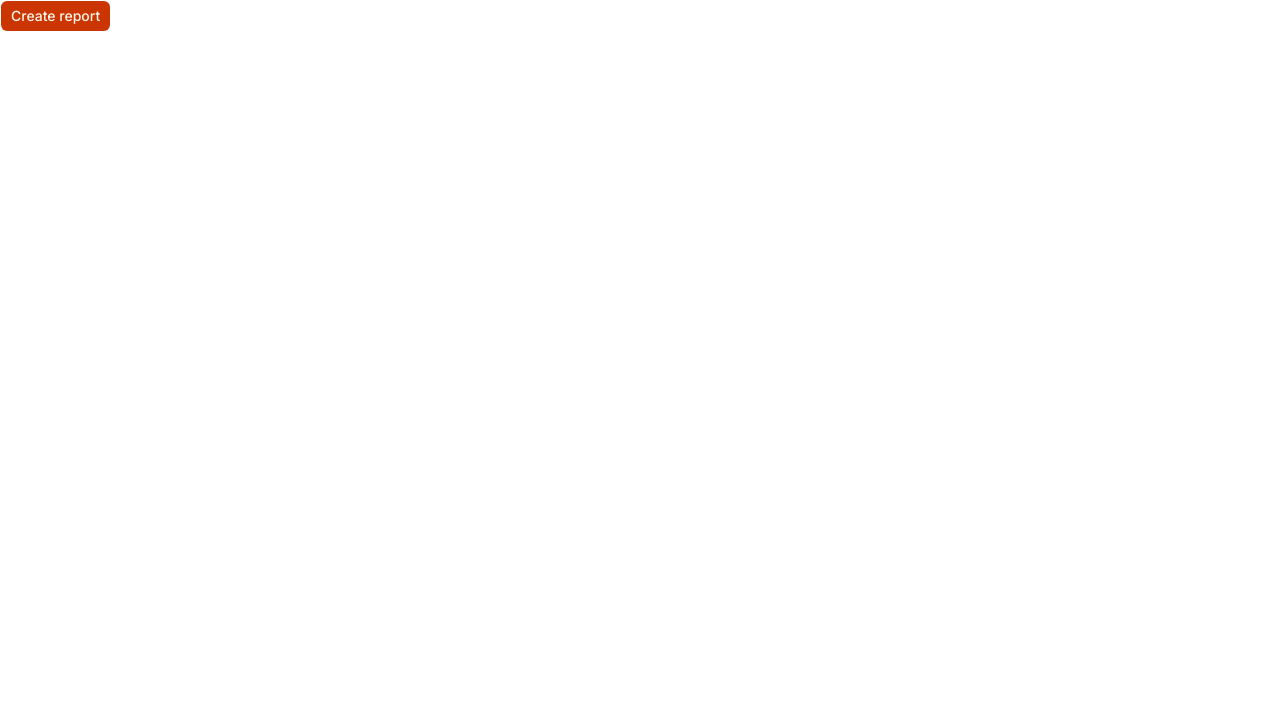
Test: daily report create form › reuses the idempotency key for retries with an unchanged date
Later steps or results of the test are not shown.
Click the button "Create report" at (56, 16), box [0,0,111,32]
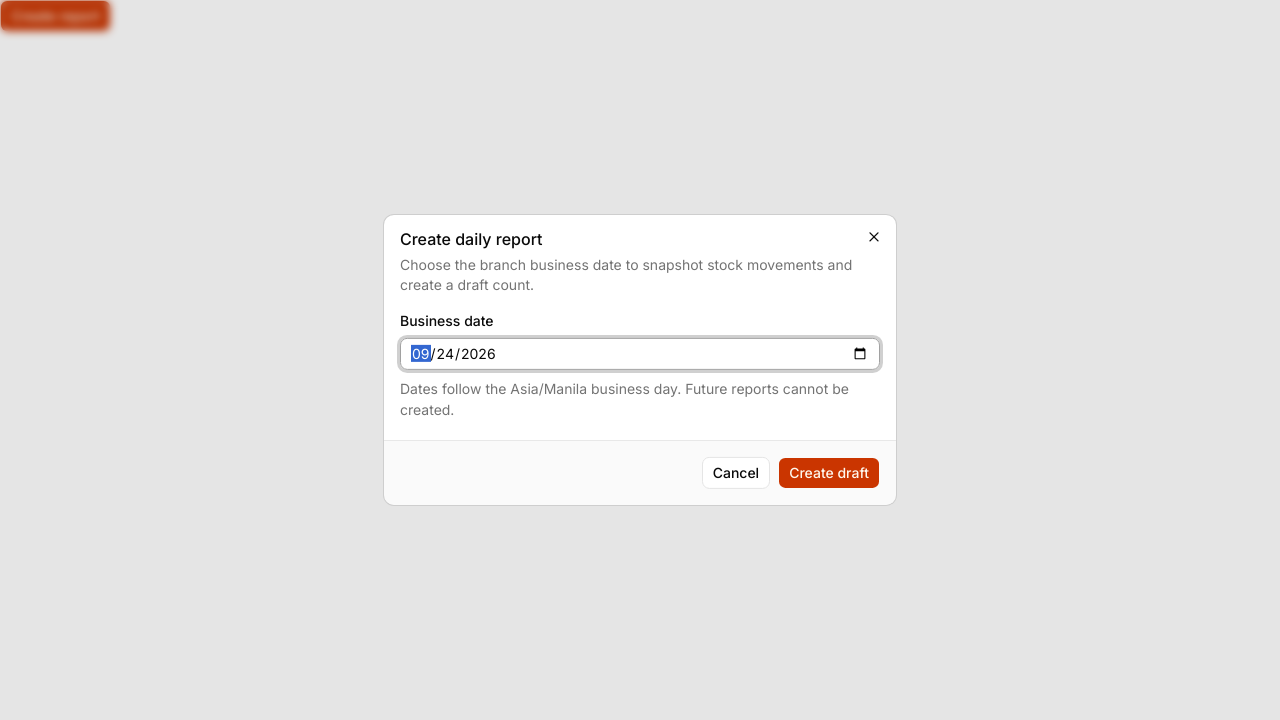
Click the button "Create draft" at (829, 473), box [778,457,880,489]
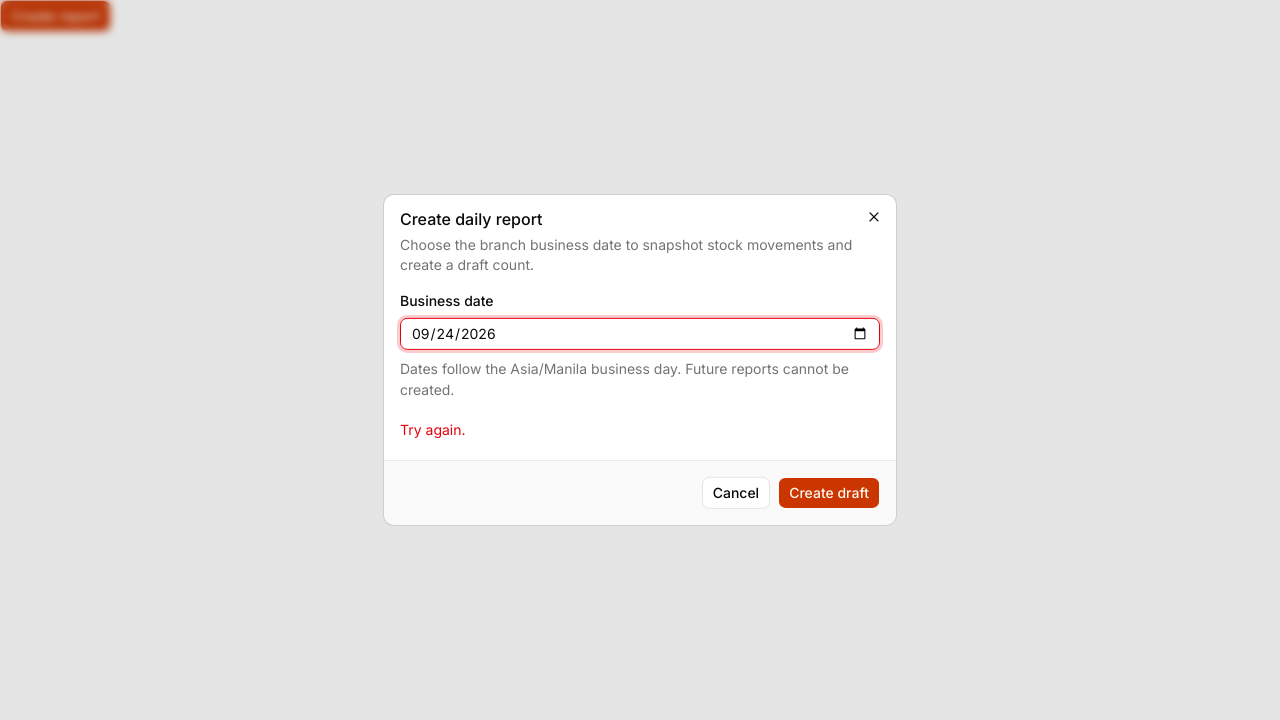
Expected: the message reads "Try again.", [400,421,466,438]
